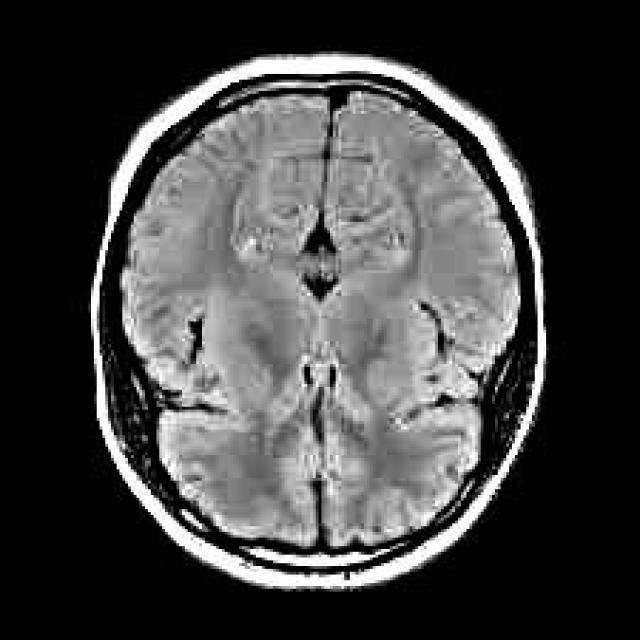notumor: (91, 57, 543, 589)
